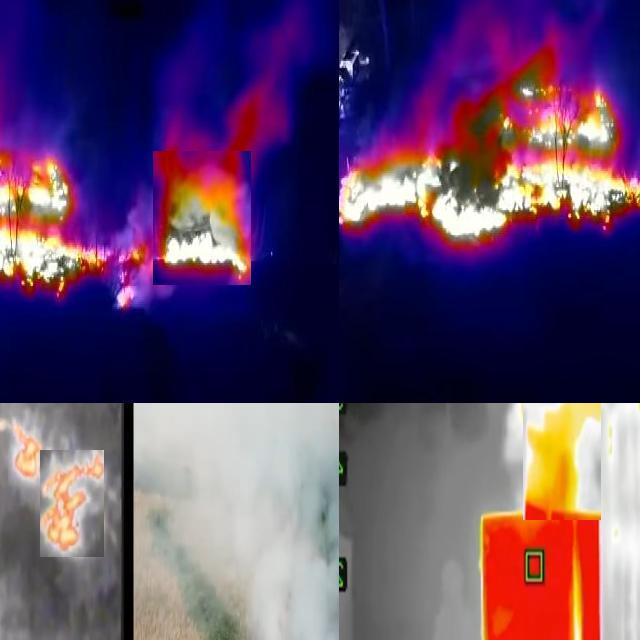fire: (340, 30, 640, 248), (1, 137, 145, 314), (153, 151, 251, 285), (523, 404, 601, 520), (40, 450, 104, 557), (1, 404, 39, 479)
